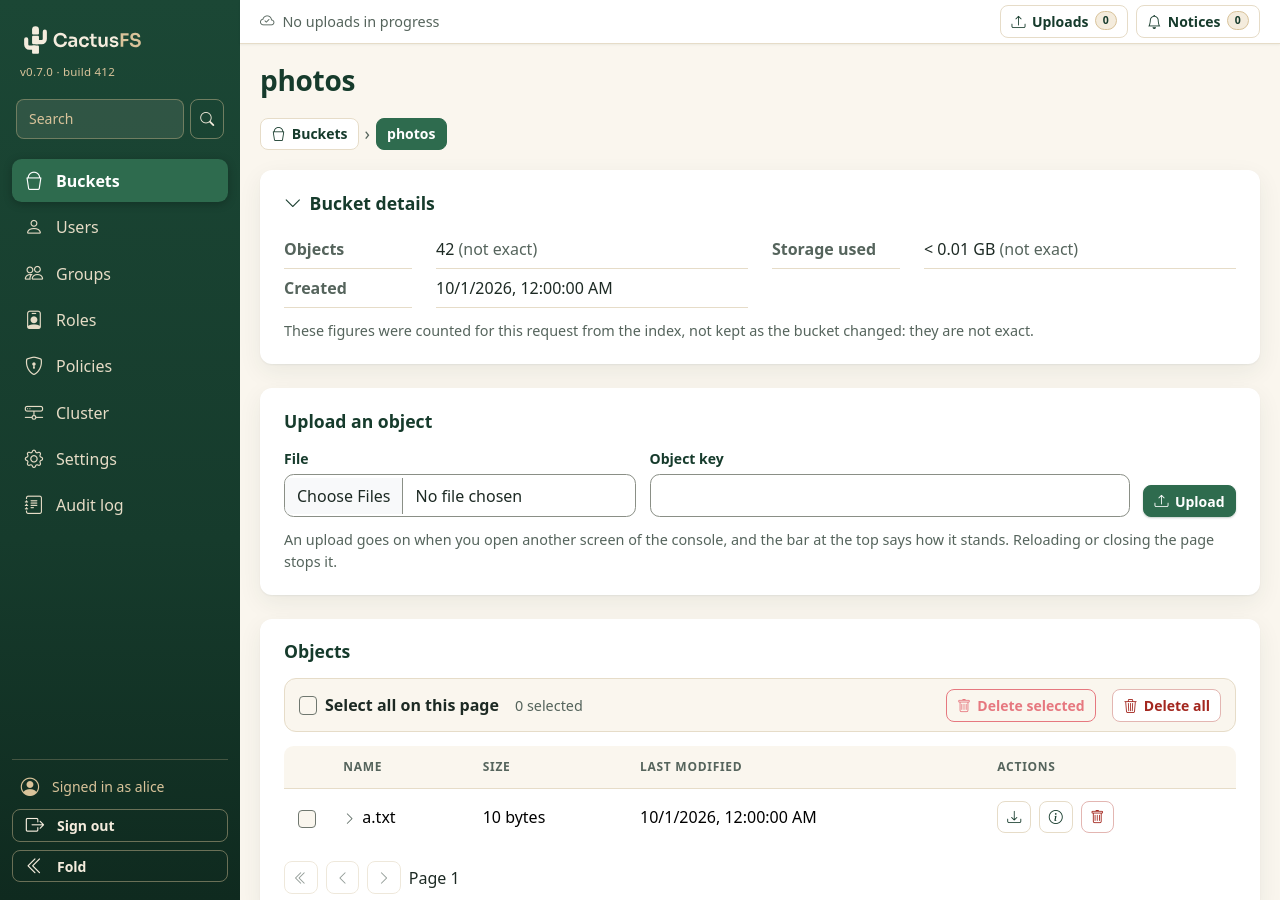
Test: a bucket's details on its page › folds away and unfolds, says how much the bucket holds while folded, and remembers it for the viewer
Check: the heading "photos" is shown, box [260,61,355,99]
What coordinates should you click on to do the following:
click the button "Bucket details"
I would click on:
 (359, 203)
Its box is [284,193,435,214].
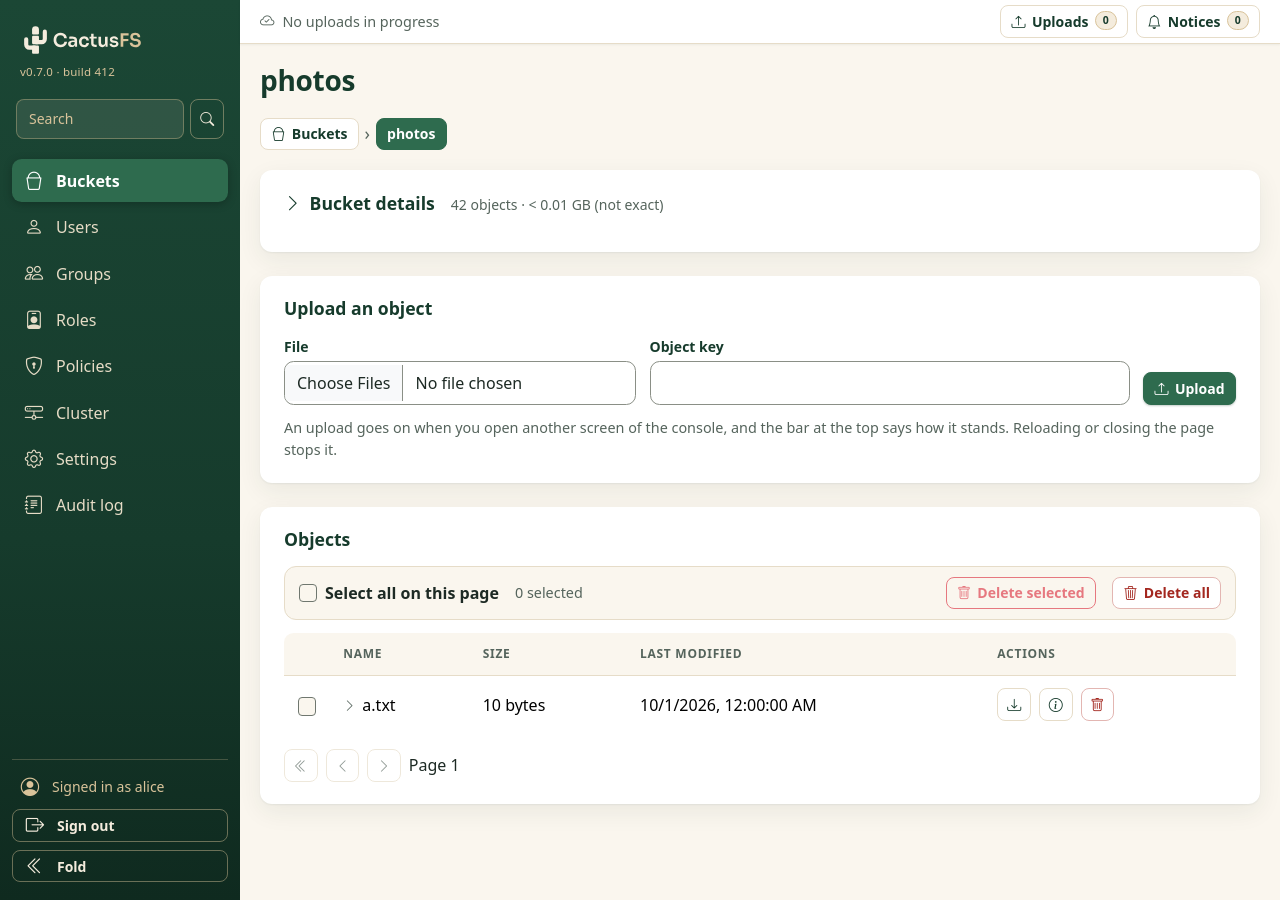
Check: the button "Bucket details" is collapsed
Check: the text "42 objects · < 0.01 GB (not exact)" is shown, box [451,197,664,213]
What coordinates should you click on to do the following:
click the button "Bucket details"
I would click on:
 (359, 203)
Its box is [284,193,435,214].
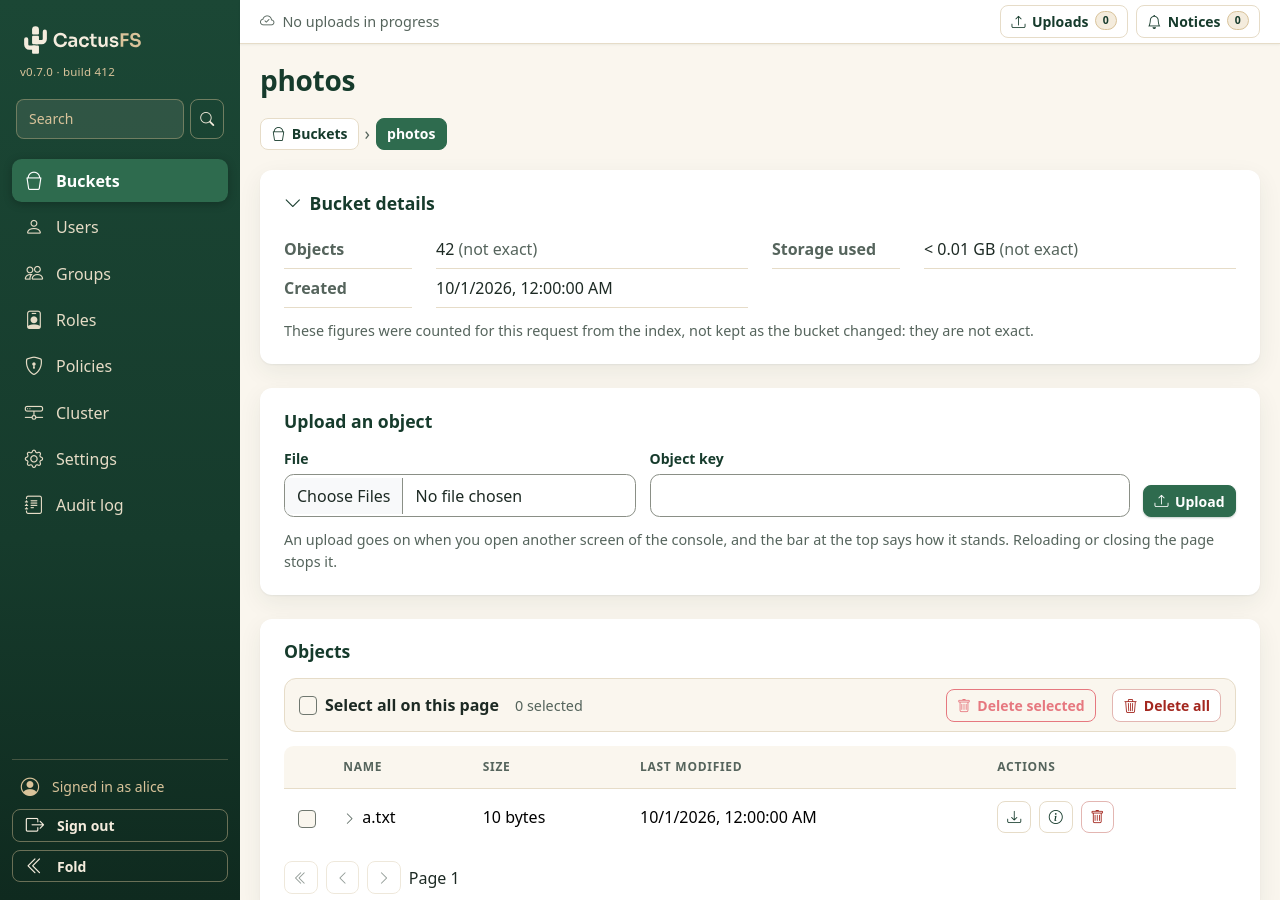
Check: the button "Bucket details" is expanded, box [284,193,435,214]
Check: the element showing "42 (not exact)" is shown, box [436,230,748,269]
